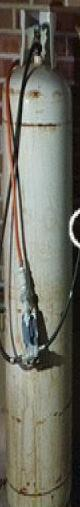cylinder: (1, 1, 80, 507)
